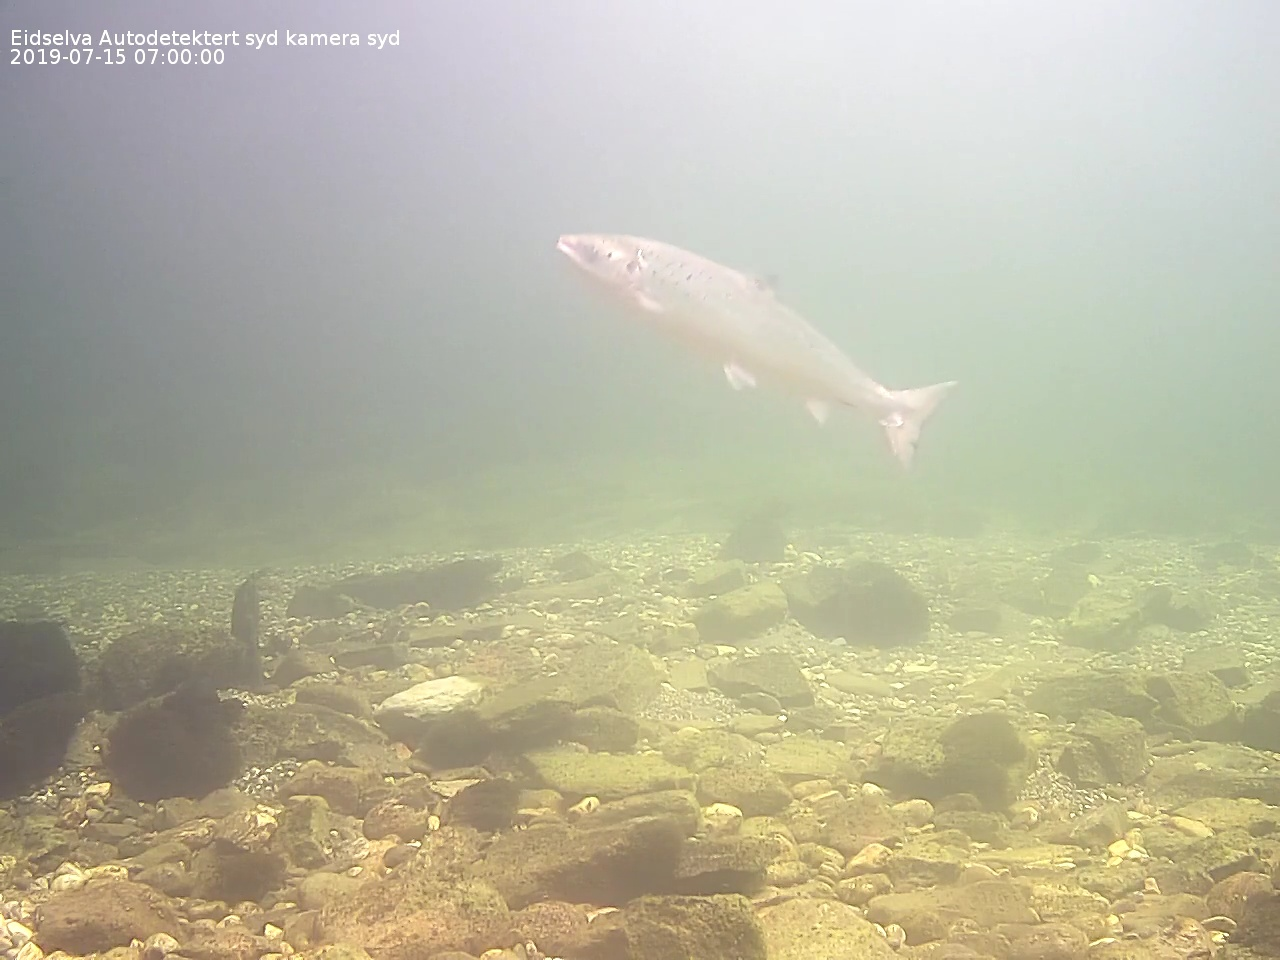salmon: (555, 225, 965, 477)
